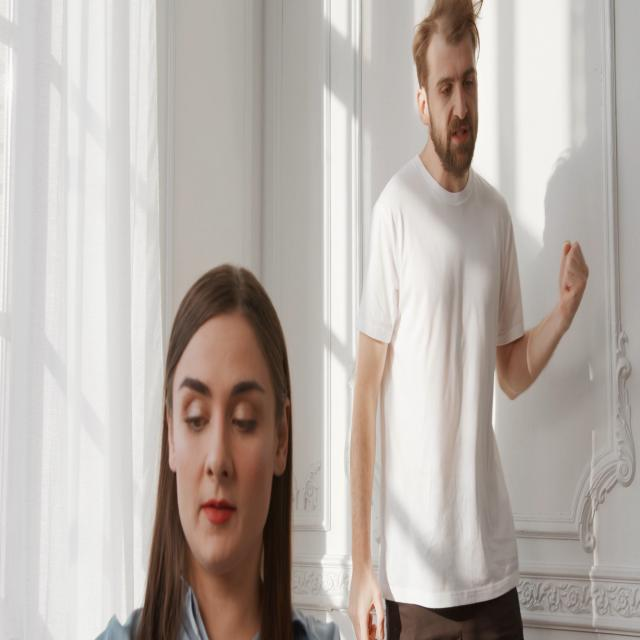frustrated: (408, 1, 520, 208)
satisfied: (141, 254, 317, 560)
